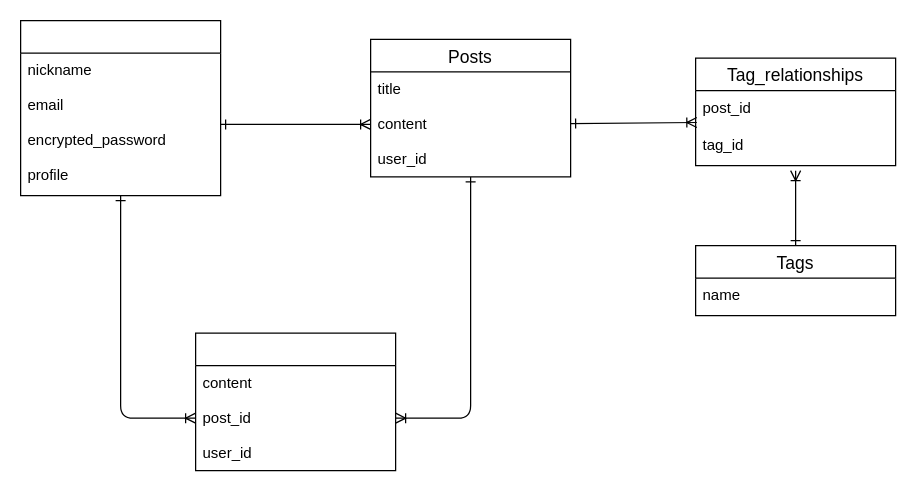
Image size: 916x491. Some labels were removed from this diagram. Each missing label, with the box of its shape:
Comments: (194, 332, 396, 471)
Users: (19, 19, 221, 196)
